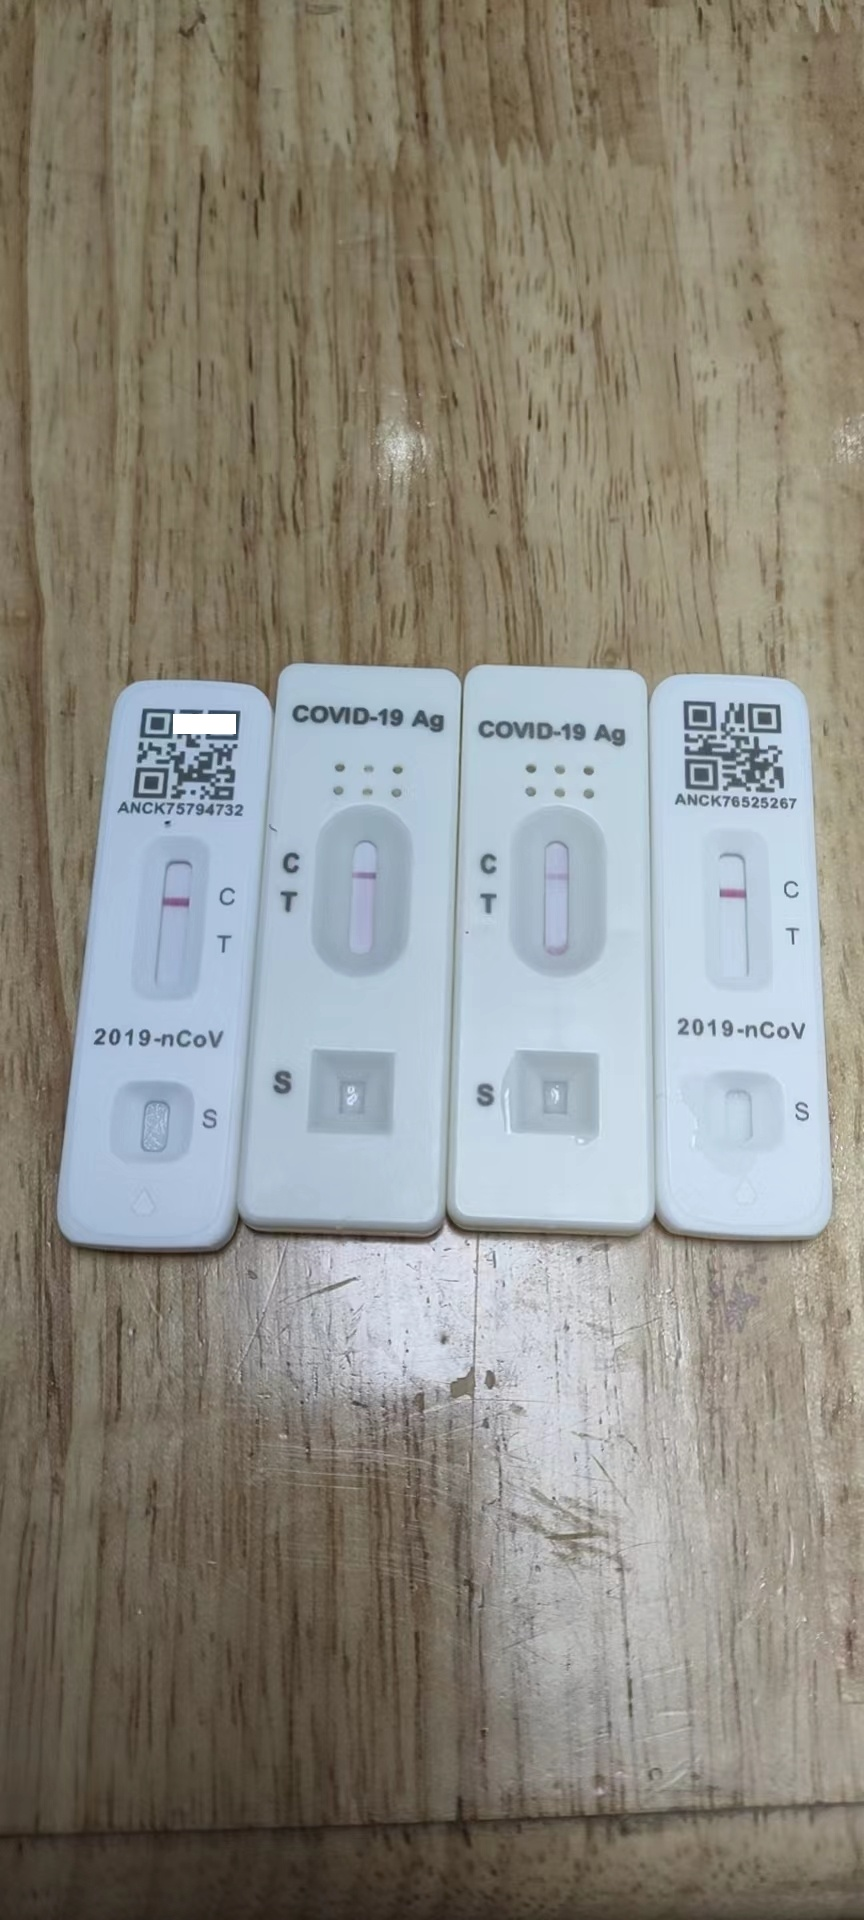negative: (513, 811, 601, 972), (136, 836, 204, 998), (706, 830, 769, 986)
